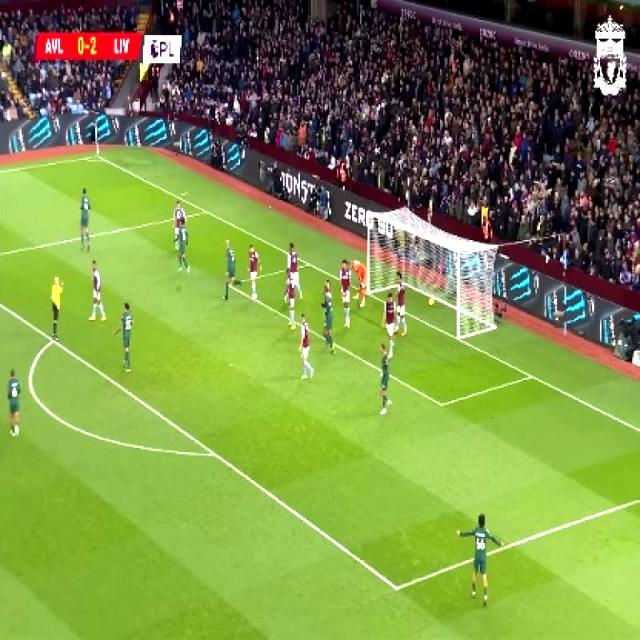bigarea_bottom_inner: (383, 568, 409, 604)
bigarea_top_outter: (198, 202, 212, 220)
bottom_arc_area_intersection: (202, 438, 223, 468)
corner: (86, 148, 104, 162)
smallarea_bottom_inner: (431, 388, 452, 418)
smallarea_bottom_outter: (520, 364, 540, 386)
smallarea_top_inner: (222, 274, 236, 294)
smallarea_top_outter: (300, 254, 315, 272)
top_arc_area_intersection: (43, 328, 62, 350)
